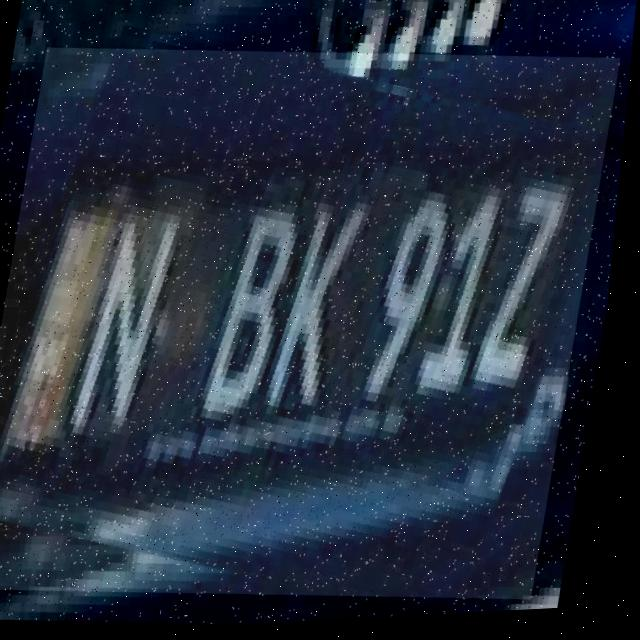LicensePlate: (0, 24, 625, 629)
